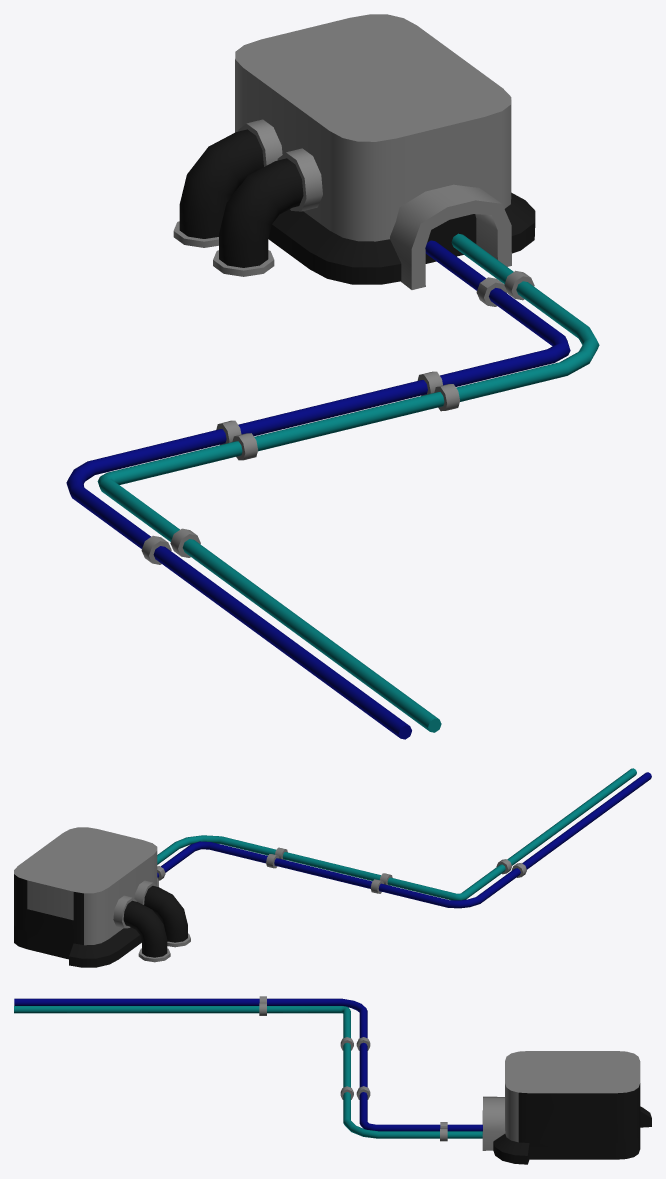
File: Convoyer_01.fbx
3 views of the same model, one above another, from view 1: azimuth 30°, elevation 25°; view 2: azimuth 150°, elevation 25°; view 3: azimuth 270°, elevation 25° (orthographic). The views are drawn at different scales.
Parts seen in each view (by area): view 1: Object002; view 2: Object002; view 3: Object002.
Part boxes in pixels (<box>): Object002: <box>66,14,599,739</box>; Object002: <box>14,768,651,967</box>; Object002: <box>14,996,651,1164</box>.
Bounding box in the file's own units: 94.62 × 18.76 × 162.
